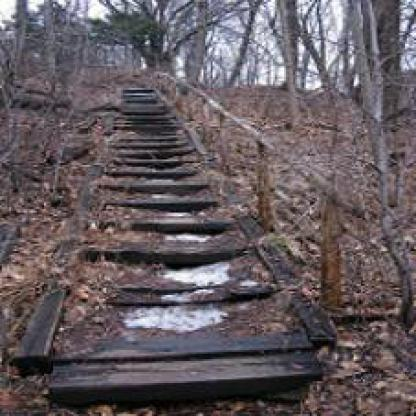stair_up: (36, 207, 320, 387)
